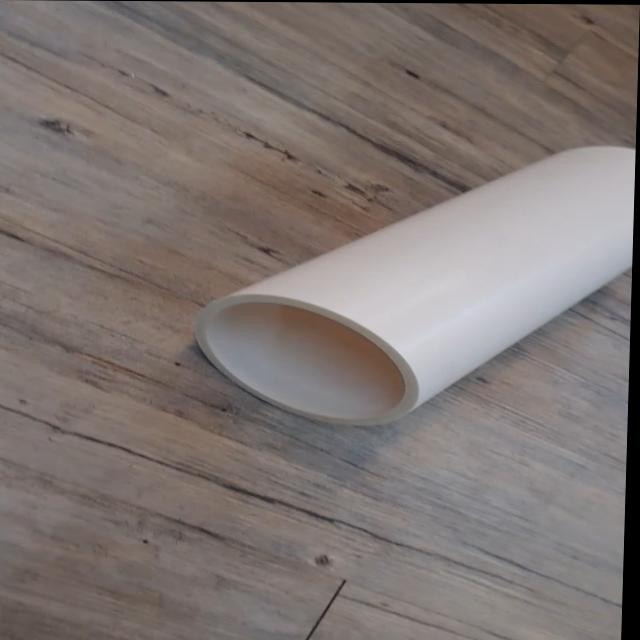CORAL: (165, 130, 636, 432)
